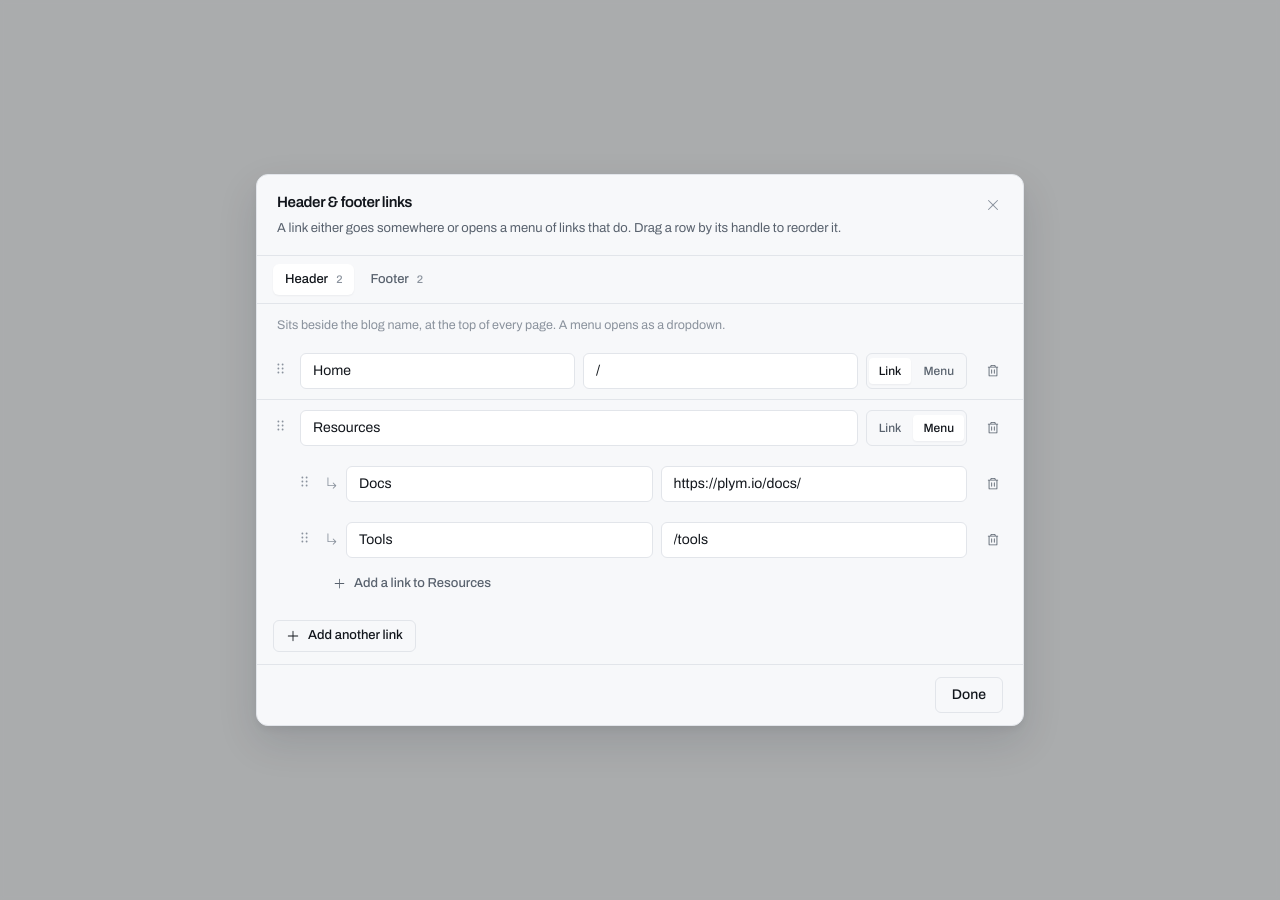
Test: NavLinksModal › says so when two links in one block would collapse into one
Clear the field named "Link 1 label": (437, 371) [300,353,575,389]
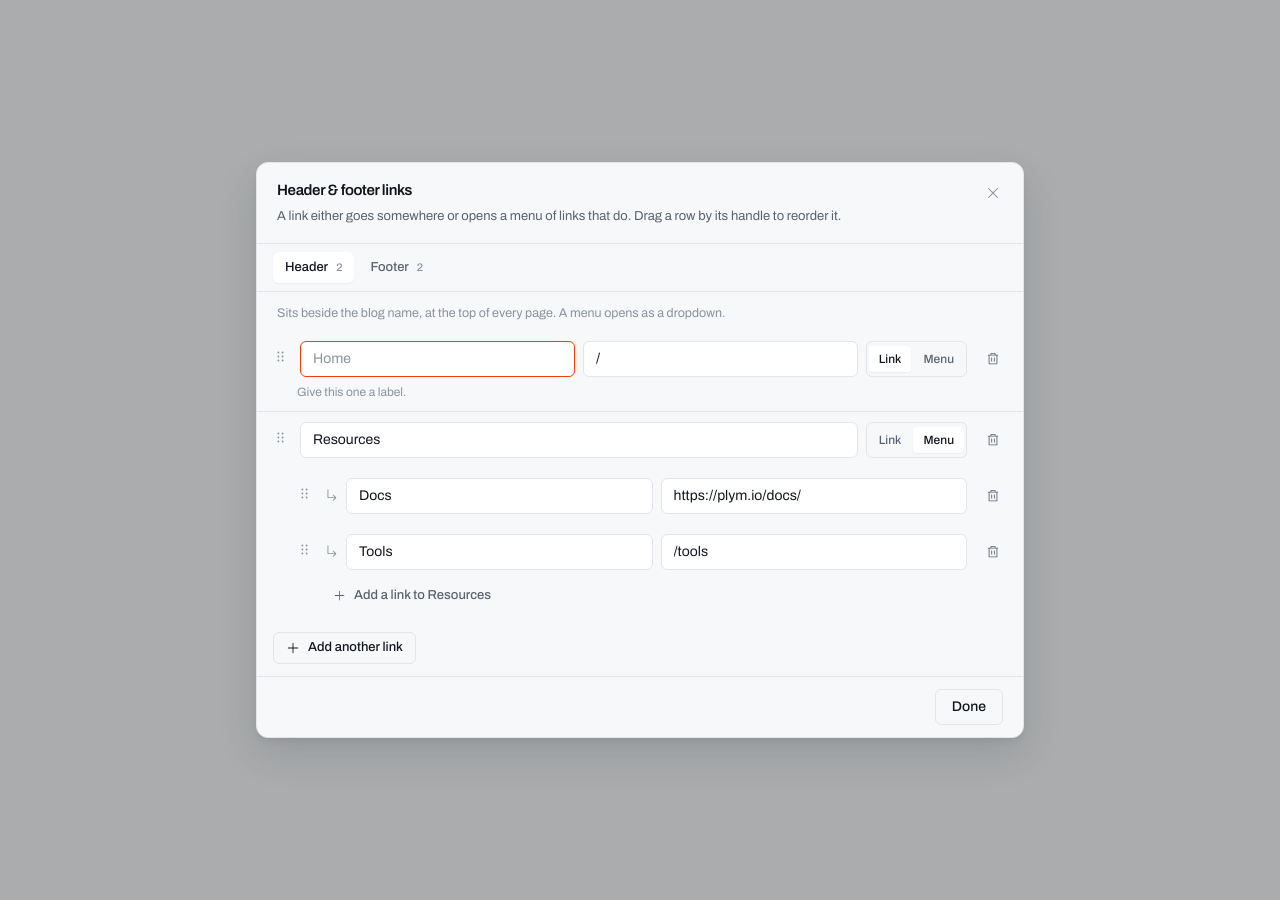
In the field named "Link 1 label": (437, 359) [300,341,575,377], type "Resources"
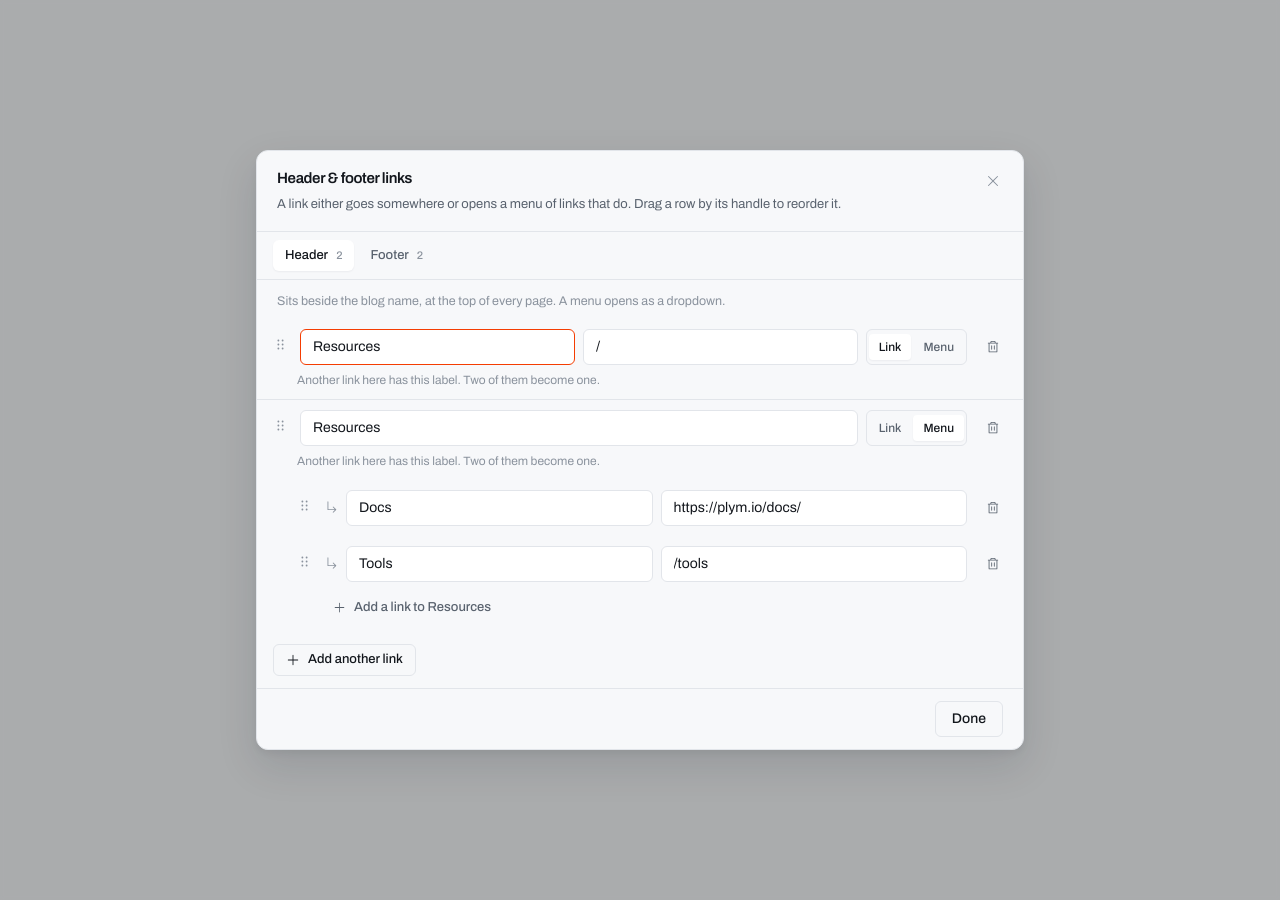
Expected: the text "Another link here has this label. Two of them become one." is shown 2 times, [297,373,600,387]; [297,454,600,468]
